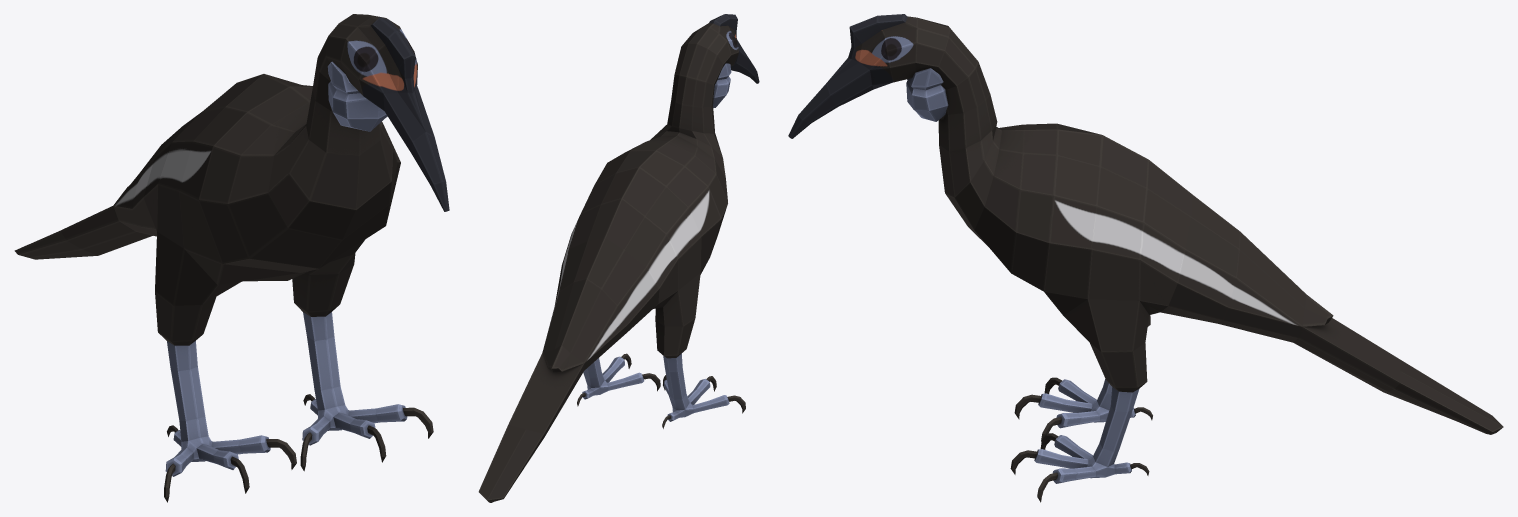
Rendered from AbyssinianGroundHornbill.obj.
3 renders of one model, left to right at view 1: azimuth 30°, elevation 25°; view 2: azimuth 150°, elevation 25°; view 3: azimuth 270°, elevation 25°, orthographic. The views are drawn at different scales.
Visible parts, largest first — view 1: AbyssinianGroundHornbill_mesh; view 2: AbyssinianGroundHornbill_mesh; view 3: AbyssinianGroundHornbill_mesh.
Boxes of the visible parts, x1,y1,x2,y2 form: AbyssinianGroundHornbill_mesh: [14, 14, 449, 502]; AbyssinianGroundHornbill_mesh: [478, 14, 759, 502]; AbyssinianGroundHornbill_mesh: [788, 14, 1503, 502].
Size of the model in its own units: 4.92 by 9.18 by 13.55.
Materials: 1 (1 with a texture image).
